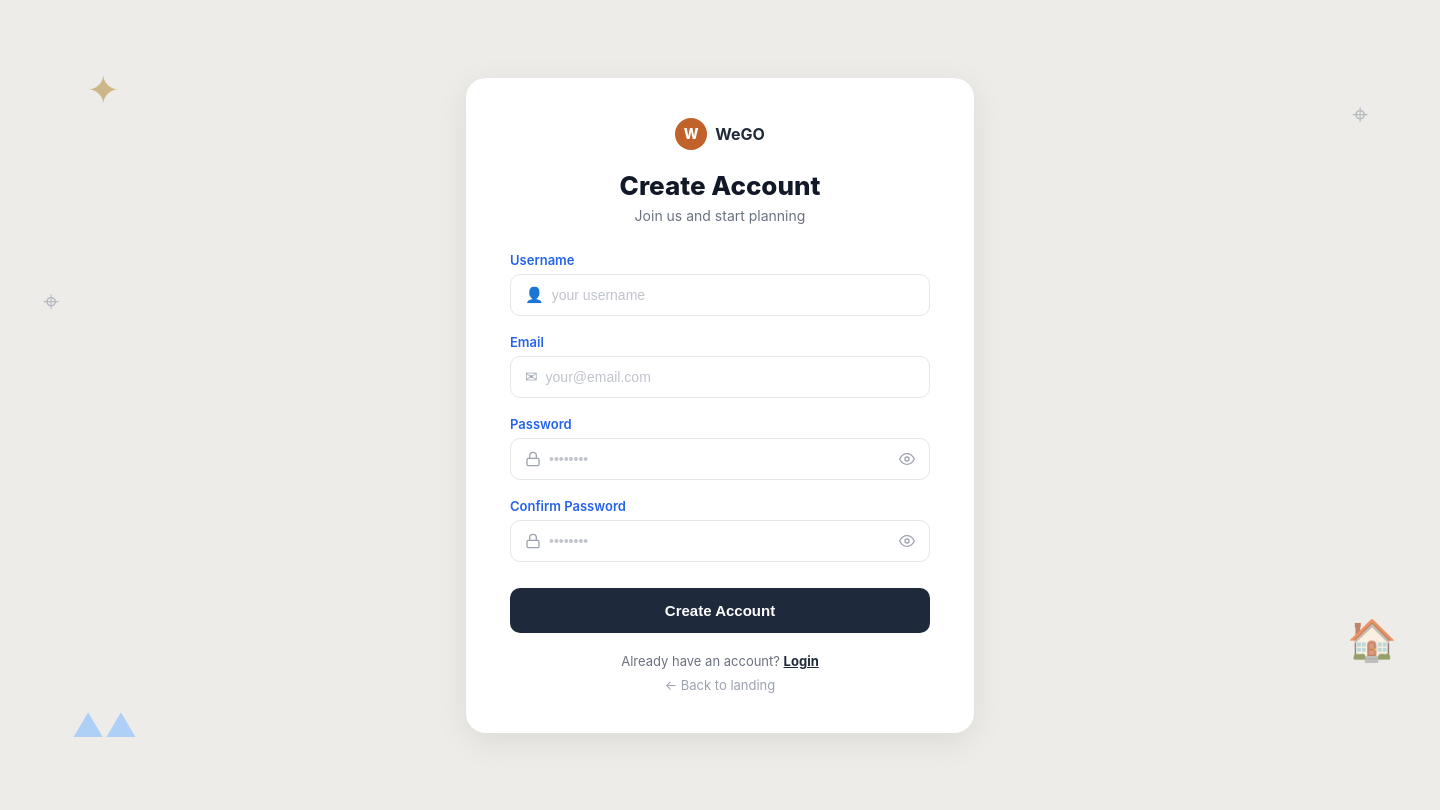
Test case: RegisterPage — password validation › shows mismatch feedback when confirm differs from password
Type "secret123" into the password field labelled "Password" at {"x": 720, "y": 458}, box [549, 438, 891, 478]
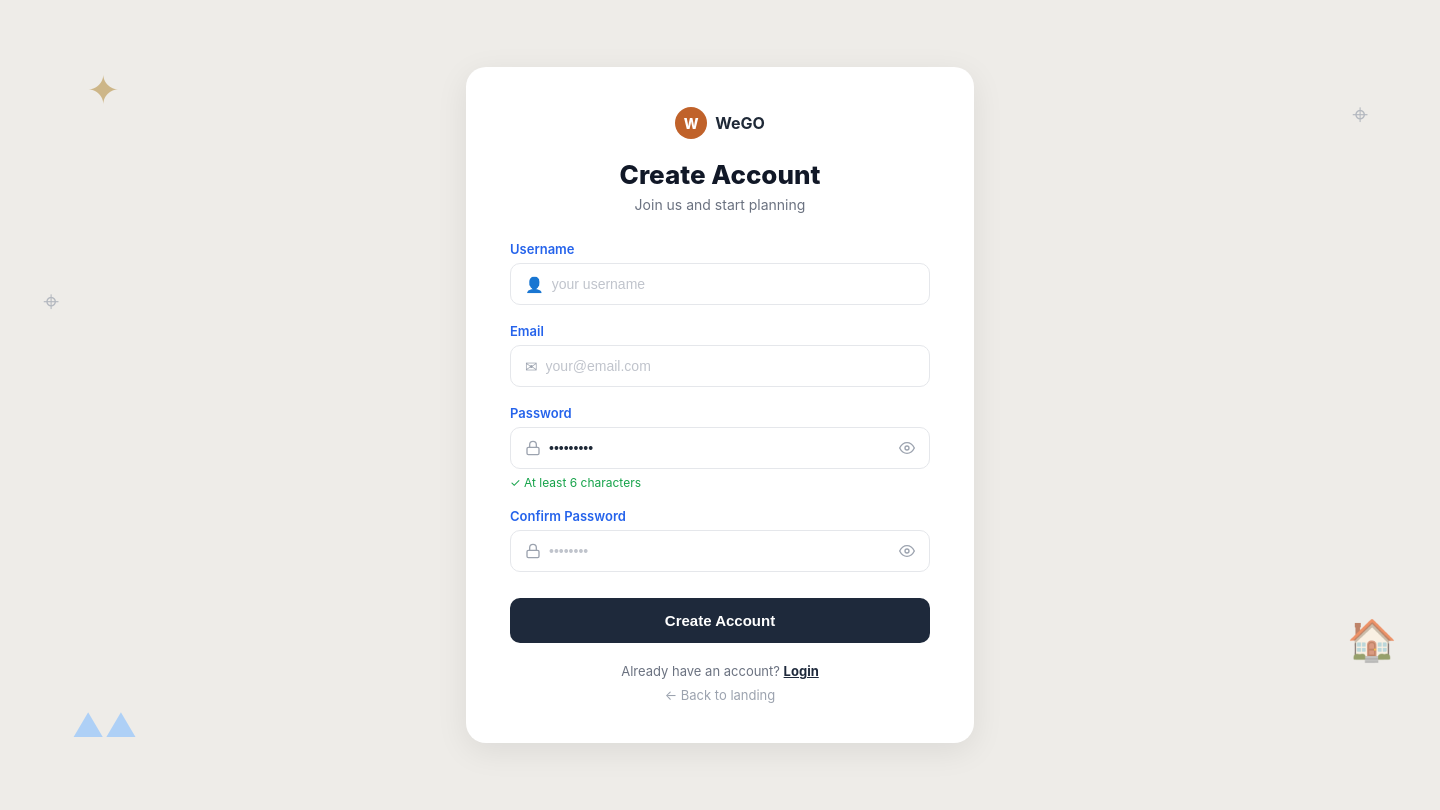
Type "different" into the password field labelled "Confirm Password" at {"x": 720, "y": 551}, box [549, 531, 891, 571]
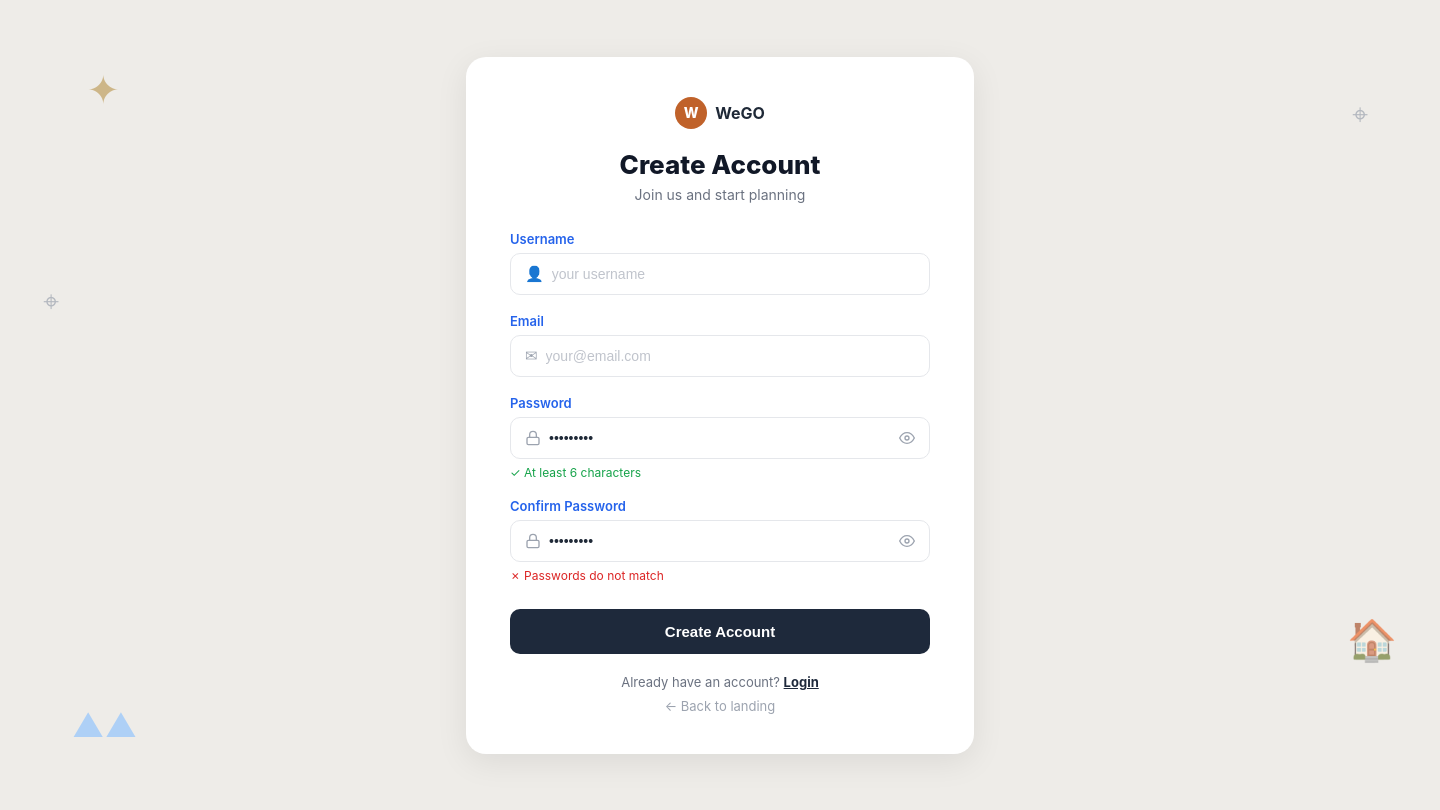
Expected: the text "✗ Passwords do not match" is shown, [510, 568, 664, 582]
